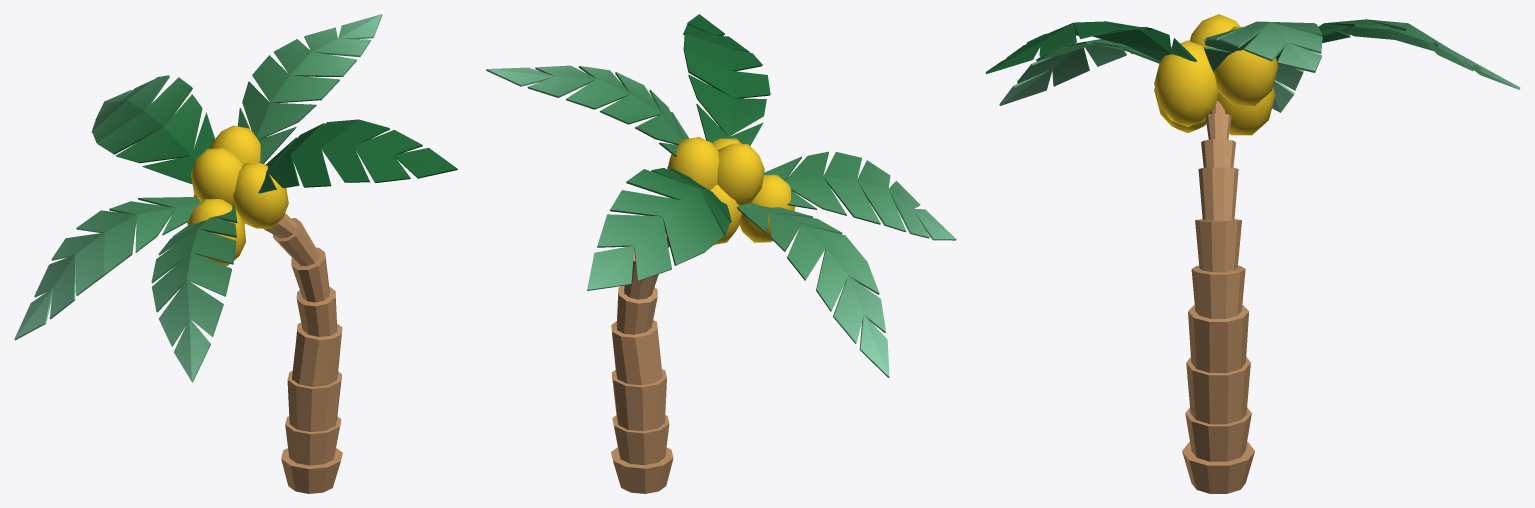
File: Lemon.fbx
3 renders of one model, left to right at view 1: azimuth 30°, elevation 25°; view 2: azimuth 150°, elevation 25°; view 3: azimuth 270°, elevation 25°, orthographic. The views are drawn at different scales.
Parts seen in each view (by area): view 1: Coconut_1; view 2: Coconut_1; view 3: Coconut_1.
Part boxes in pixels (bbox=[...]): Coconut_1: bbox=[14, 14, 457, 493]; Coconut_1: bbox=[486, 14, 956, 493]; Coconut_1: bbox=[985, 14, 1520, 493].
Size of the model in its own units: 2.43 by 2.55 by 2.5.
